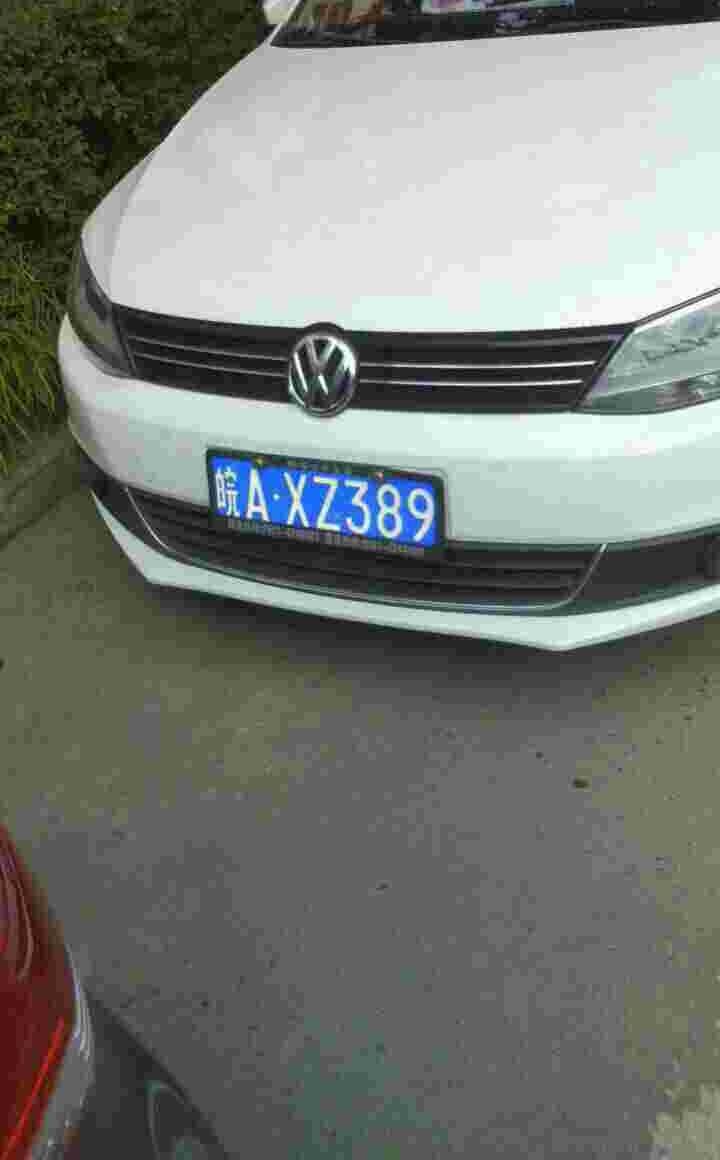car: (204, 444, 449, 542)
